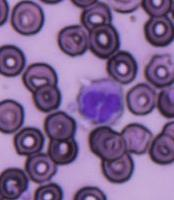N: (78, 76, 125, 125)
